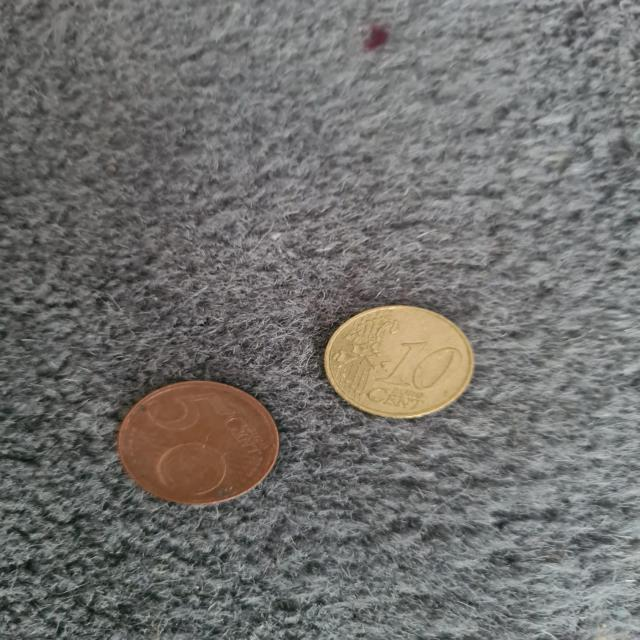10c: (308, 294, 491, 431)
5c: (105, 373, 306, 519)
